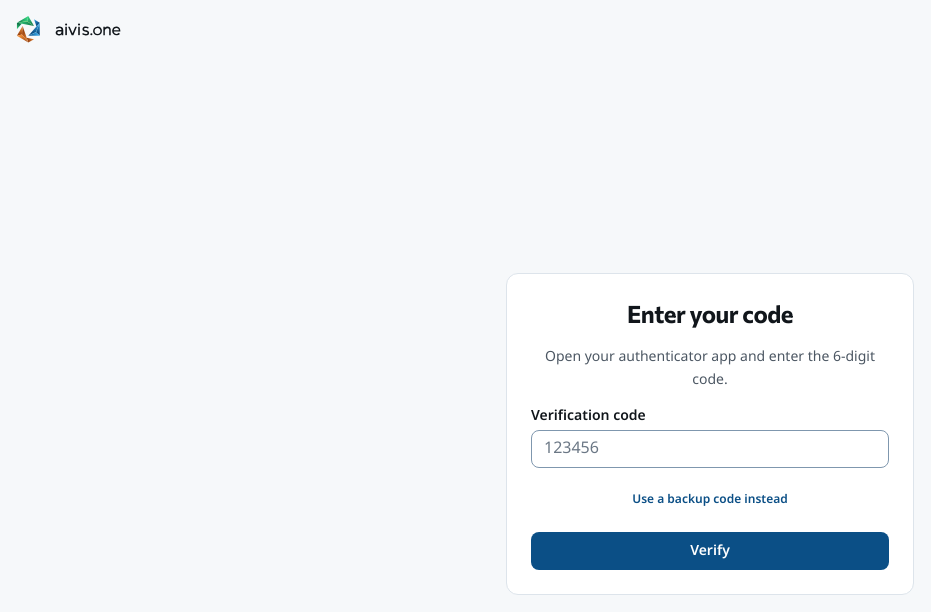
Scenario: TelegramSecondCodeView › asks for the app to be opened again when the code is refused, since the token is used up
The width and height of the screenshot is (931, 612).
Type "000000" into the field labelled "Verification code" at x=710, y=449, box top-left (531, 430), bottom-right (889, 468)
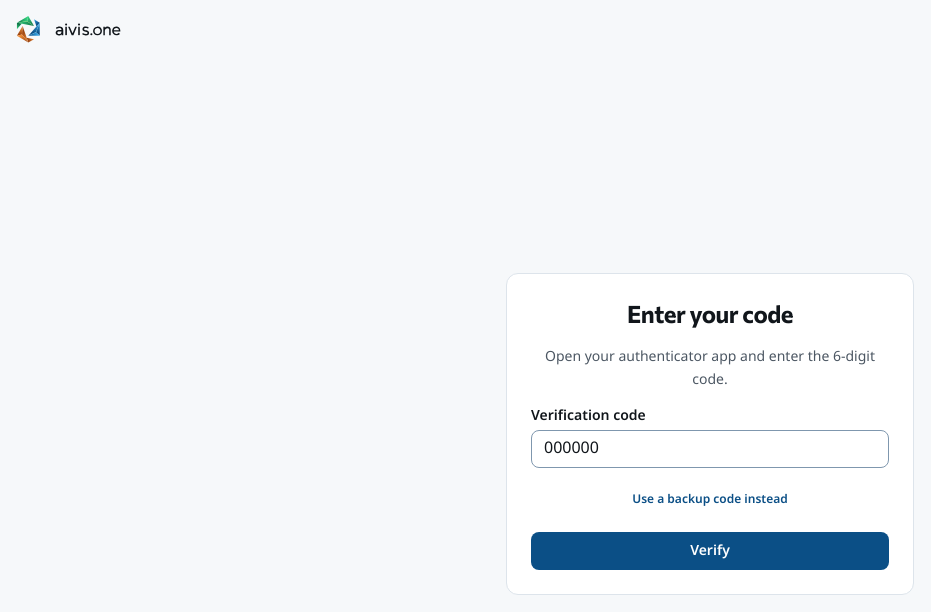
Click the button with class "ds-button--primary" at x=710, y=551, box top-left (531, 532), bottom-right (889, 570)
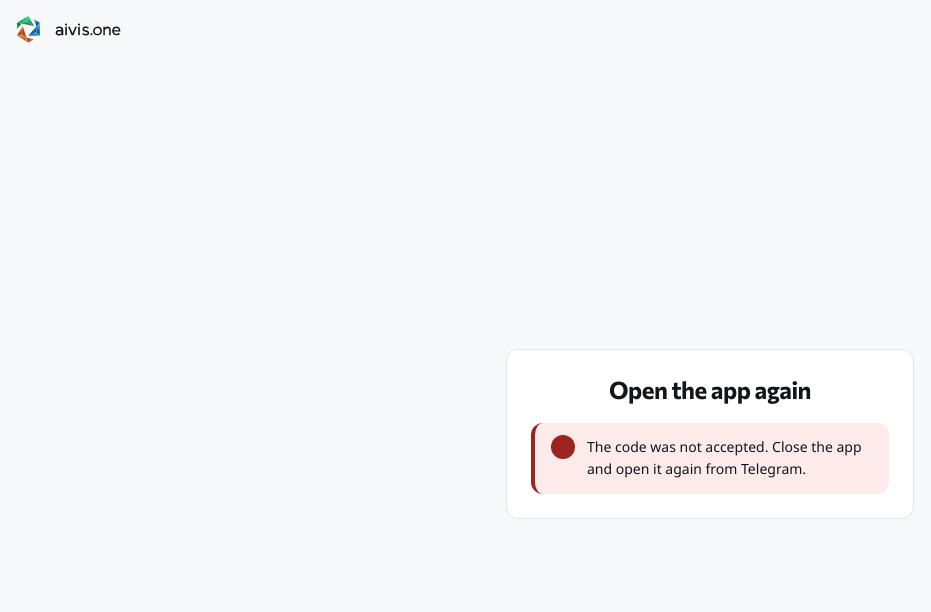
Expected: the text "The code was not accepted. Close the app and open it again from Telegram." is shown, top-left (587, 437), bottom-right (873, 482)
